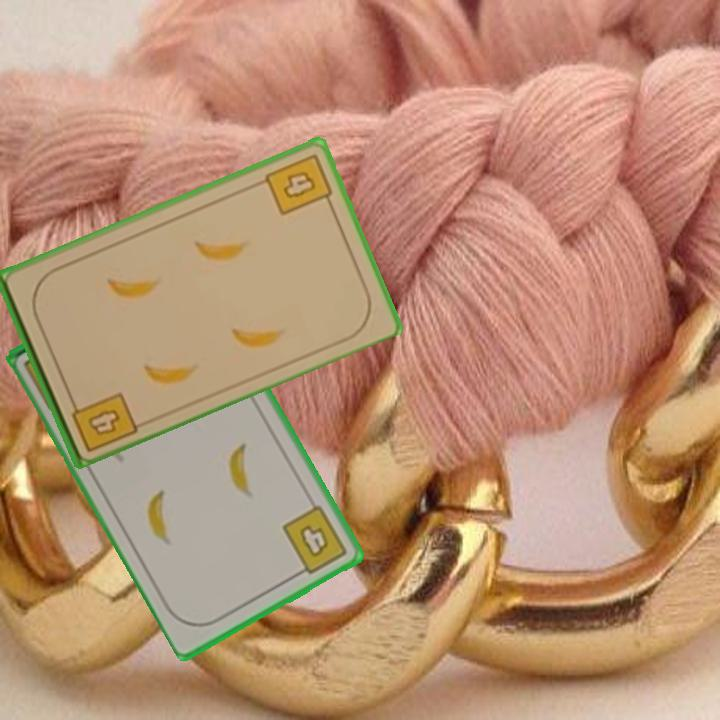4b: (279, 501, 351, 580), (261, 149, 336, 218), (66, 388, 140, 455)
